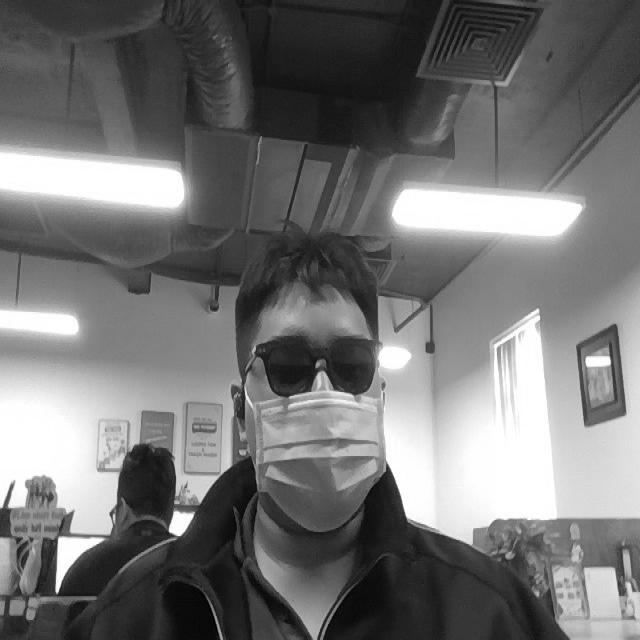fake: (249, 394, 397, 530), (251, 331, 387, 396)
